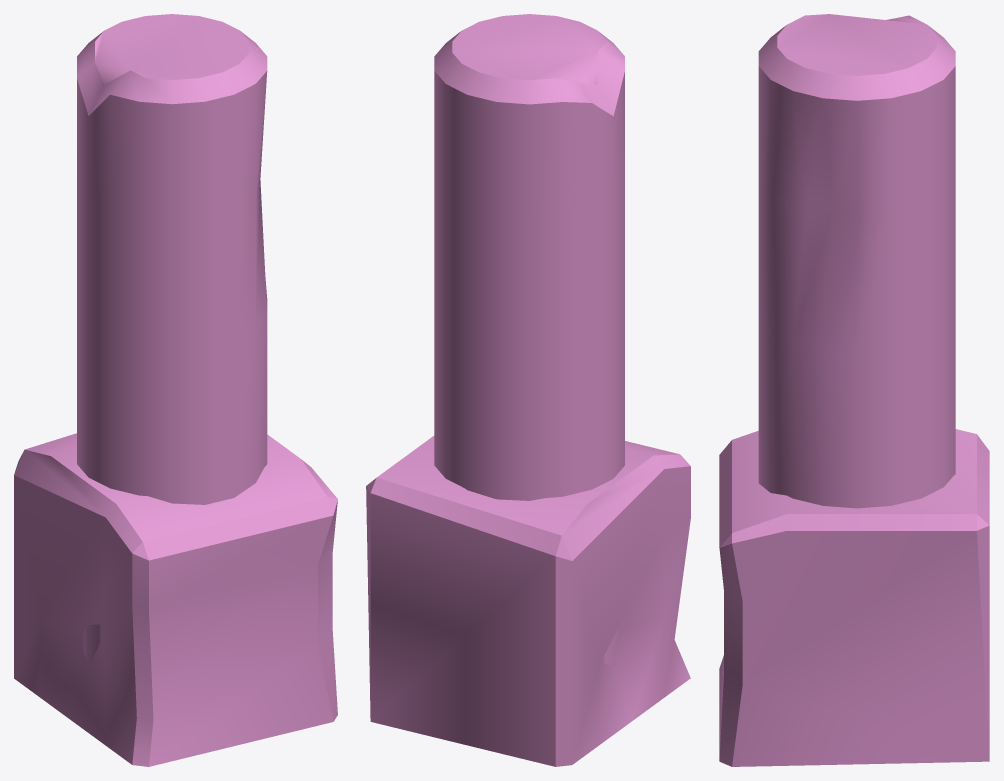
File: BrickWithPillar_alpha.FBX
The picture shows the model from 3 angles, left to right: view 1: azimuth 30°, elevation 25°; view 2: azimuth 150°, elevation 25°; view 3: azimuth 270°, elevation 25°; orthographic projection. The views are drawn at different scales.
Parts seen in each view (by area): view 1: Cylinder001; view 2: Cylinder001; view 3: Cylinder001.
Part boxes in pixels (left/top/right/bottom): Cylinder001: left=14, top=14, right=337, bottom=766; Cylinder001: left=366, top=14, right=690, bottom=766; Cylinder001: left=719, top=14, right=989, bottom=766.
Size of the model in its own units: 19.53 by 58.92 by 21.45.
